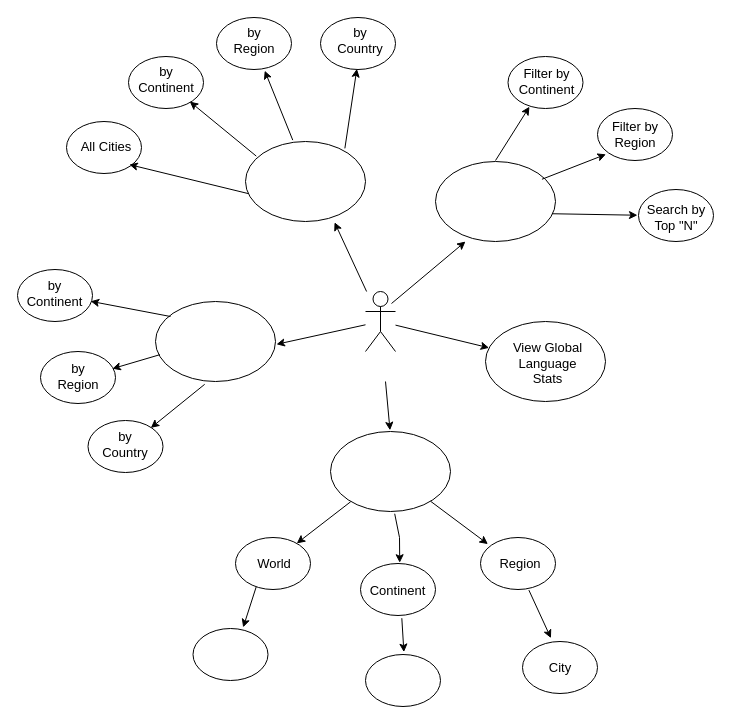
This 735x724 diagram has some shape labels left out. Here are the shapes that lost their labels. From the top down, the box of each, then its label:
(244, 140, 366, 222): View Cities by Population
(434, 160, 556, 242): View Countries by Population
(154, 300, 276, 382): View Population in Cities and urban
(364, 290, 396, 352): User
(330, 430, 450, 512): Search Population by Selected Area
(192, 628, 268, 680): Country
(364, 654, 440, 706): District
